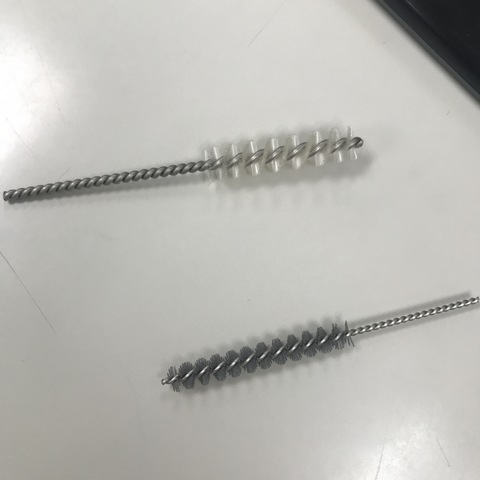Twist Brush-A: (156, 294, 480, 395)
Twist Brush-B: (3, 118, 362, 202)
